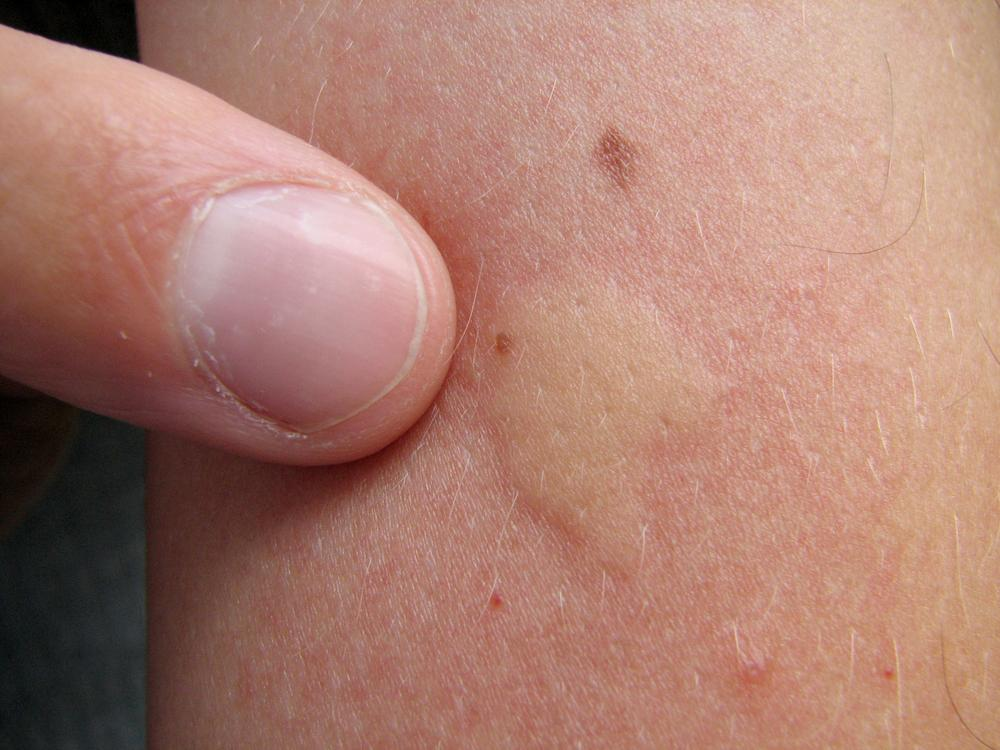Mosquito: (432, 221, 781, 602)
